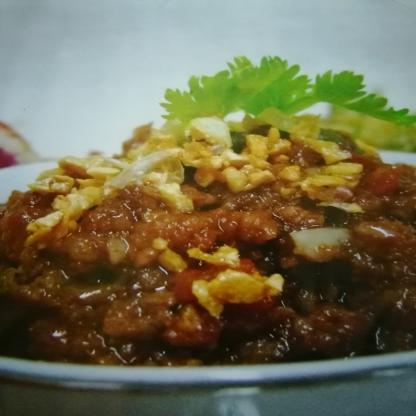Namprig: (6, 92, 415, 382)
